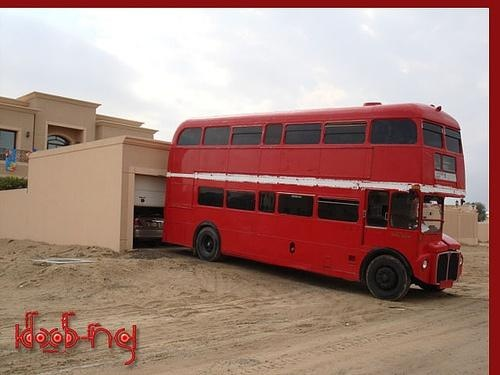bus: (162, 102, 468, 302)
